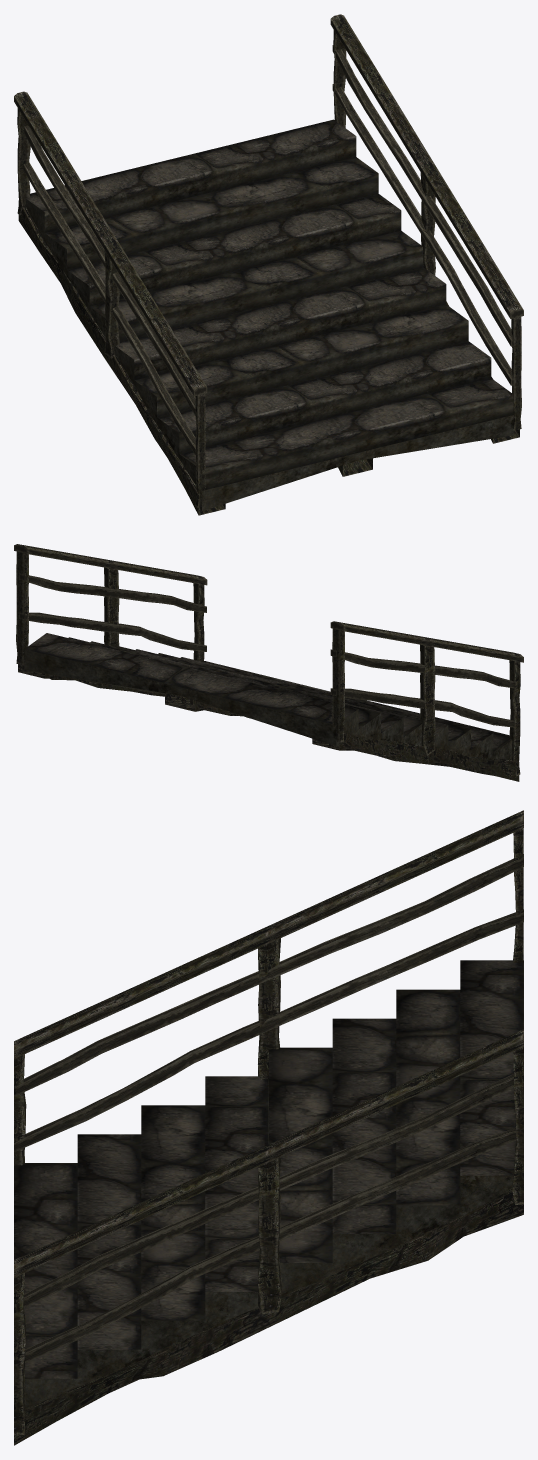
The model's file is stone.dae.
3 views of the same model, one above another, from view 1: azimuth 30°, elevation 25°; view 2: azimuth 150°, elevation 25°; view 3: azimuth 270°, elevation 25° (orthographic). The views are drawn at different scales.
Visible parts, largest first — view 1: polySurface13, polySurface87, polySurface81, polySurface52, polySurface85, polySurface86; view 2: polySurface13, polySurface85, polySurface86, polySurface81, polySurface87, polySurface52; view 3: polySurface13, polySurface87, polySurface52, polySurface81, polySurface86, polySurface85.
Boxes of the visible parts, box(x1,y1,x2,y2) form: polySurface13: box(25, 119, 513, 511); polySurface87: box(14, 14, 523, 396); polySurface81: box(332, 45, 513, 385); polySurface52: box(23, 126, 205, 459); polySurface85: box(17, 30, 521, 507); polySurface86: box(18, 200, 519, 515); polySurface13: box(24, 633, 512, 760); polySurface85: box(16, 551, 520, 776); polySurface86: box(18, 664, 519, 781); polySurface81: box(19, 573, 206, 651); polySurface87: box(14, 544, 523, 662); polySurface52: box(330, 649, 514, 727); polySurface13: box(14, 960, 523, 1408); polySurface87: box(14, 810, 523, 1277); polySurface52: box(14, 854, 523, 1151); polySurface81: box(23, 1069, 523, 1362); polySurface86: box(14, 1182, 523, 1445); polySurface85: box(14, 828, 523, 1435).
Size of what is drawn, in the model's own units: 4.23 by 3.57 by 4.
